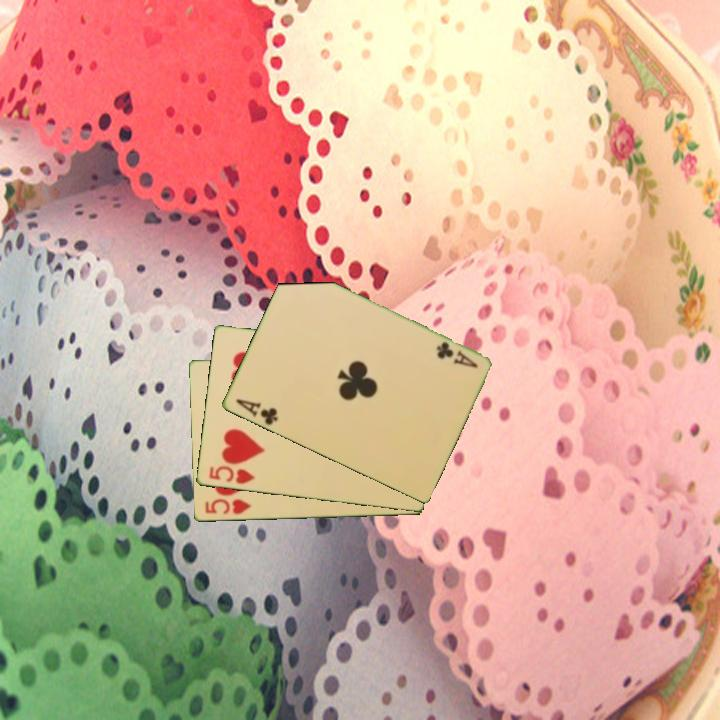5h: (205, 462, 258, 487), (201, 495, 253, 518)
Ac: (232, 395, 280, 428), (432, 338, 480, 371)
